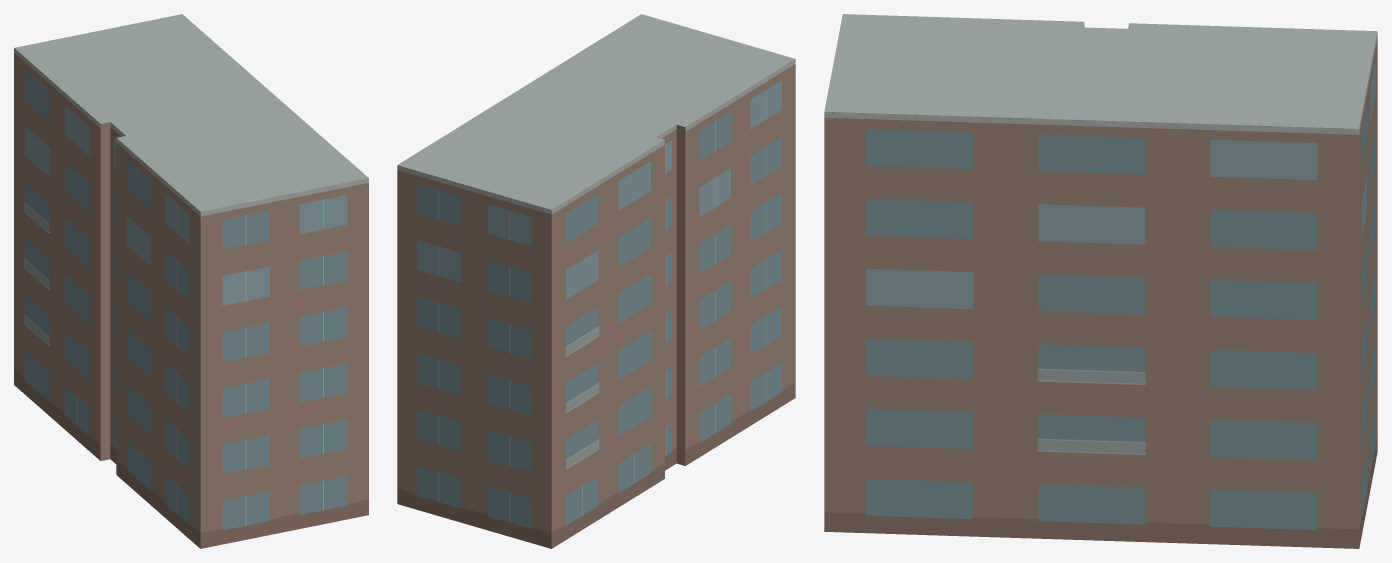
Rendered from survey-upis-33021447.glb.
3 renders of one model, left to right at view 1: azimuth 30°, elevation 25°; view 2: azimuth 150°, elevation 25°; view 3: azimuth 270°, elevation 25°, orthographic. The views are drawn at different scales.
Parts seen in each view (by area): view 1: survey-upis-33021447.tmp; view 2: survey-upis-33021447.tmp; view 3: survey-upis-33021447.tmp.
Part boxes in pixels (<box>): survey-upis-33021447.tmp: <box>14,14,368,548</box>; survey-upis-33021447.tmp: <box>397,14,795,548</box>; survey-upis-33021447.tmp: <box>824,14,1377,548</box>.
Bounding box in the file's own units: 10.16 × 17.3 × 20.67.
